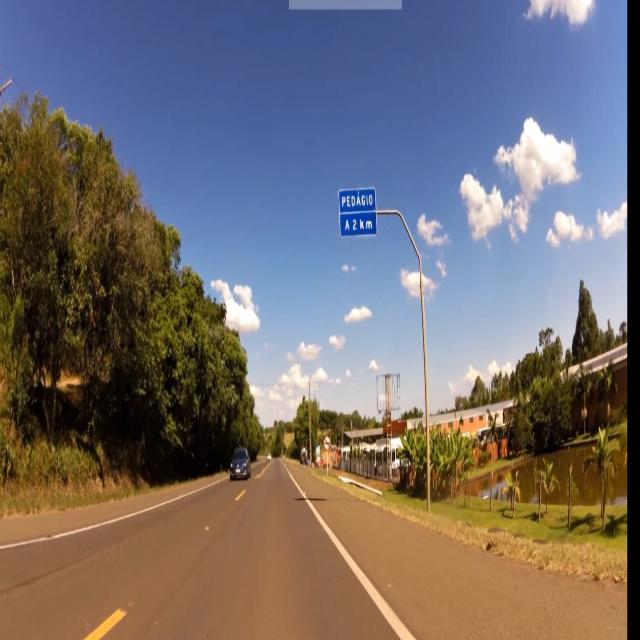LOC-6: (338, 187, 376, 238)
